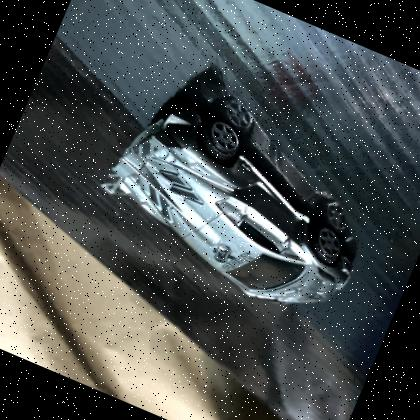Car: (102, 99, 354, 304)
